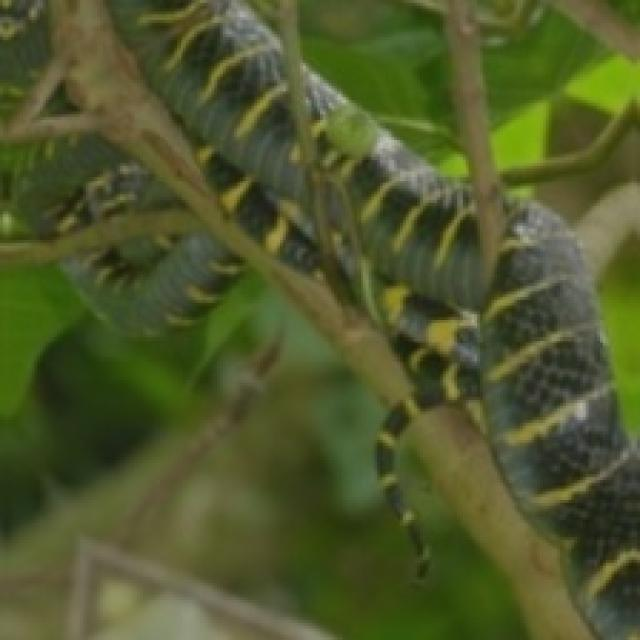mangrove cat snake: (131, 0, 640, 640), (64, 229, 246, 331), (18, 135, 185, 234), (376, 406, 430, 579)
